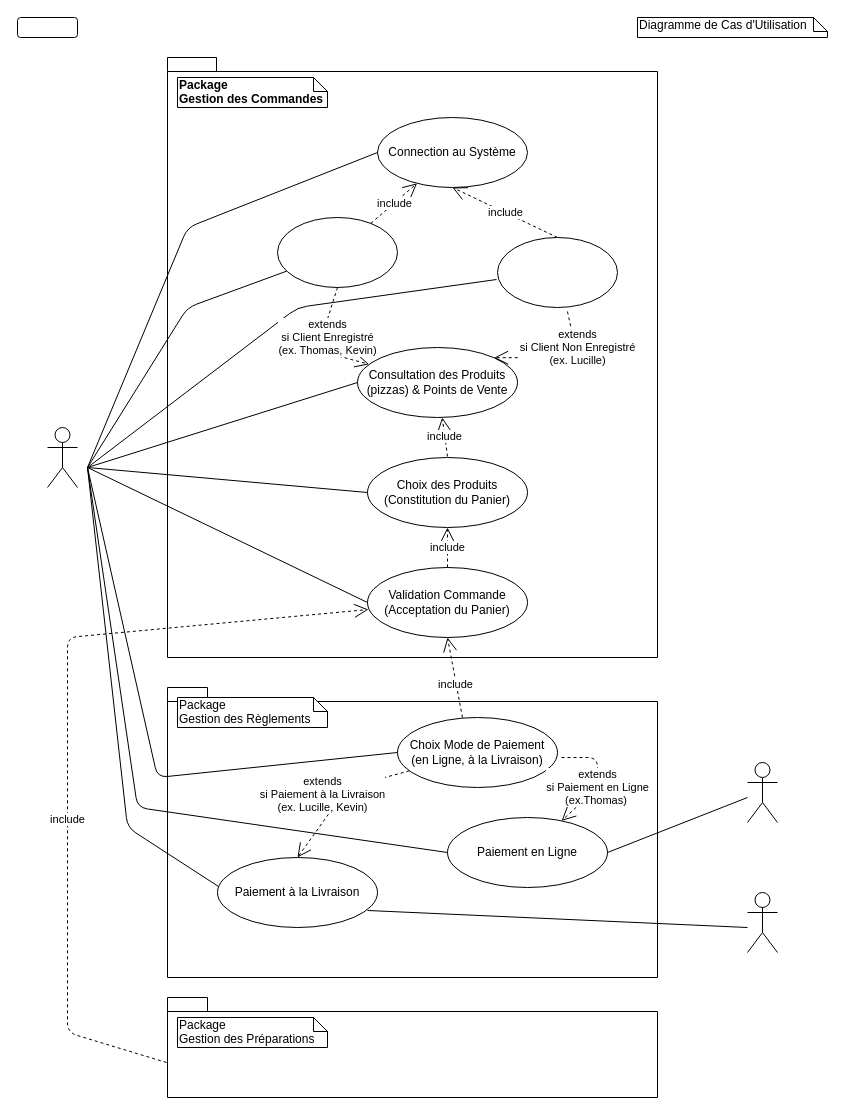
Some shapes in this 851 by 1115 pixel diagram are drawn without their labels. The box of each missing label's shape, as (x1, y1, x2, y2) in pixels:
<<système>> Caisse: (746, 892, 778, 952)
<<système>> Organisme de Règlements: (746, 762, 778, 822)
Authentification: (276, 216, 398, 288)
Client: (46, 426, 78, 488)
Inscription: (496, 236, 618, 308)
OC'Pizza: (16, 16, 78, 38)
